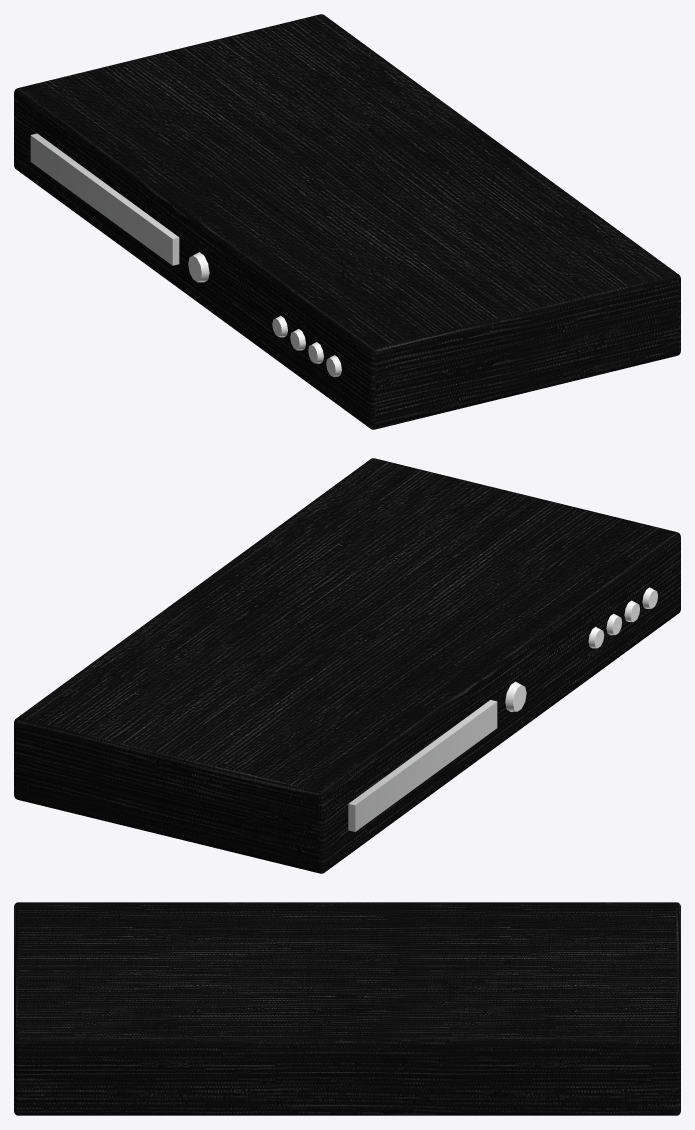
Rendered from disc_player.fbx.
The picture shows the model from 3 angles, top to bottom: view 1: azimuth 30°, elevation 25°; view 2: azimuth 150°, elevation 25°; view 3: azimuth 270°, elevation 25°; orthographic projection. The views are drawn at different scales.
Parts seen in each view (by area): view 1: disc_player; view 2: disc_player; view 3: disc_player.
Boxes of the visible parts, left/top/right/bottom form: disc_player: left=14, top=14, right=680, bottom=429; disc_player: left=14, top=458, right=680, bottom=873; disc_player: left=14, top=902, right=680, bottom=1115.
Bounding box in the file's own units: 0.4087 × 0.1 × 0.8.
